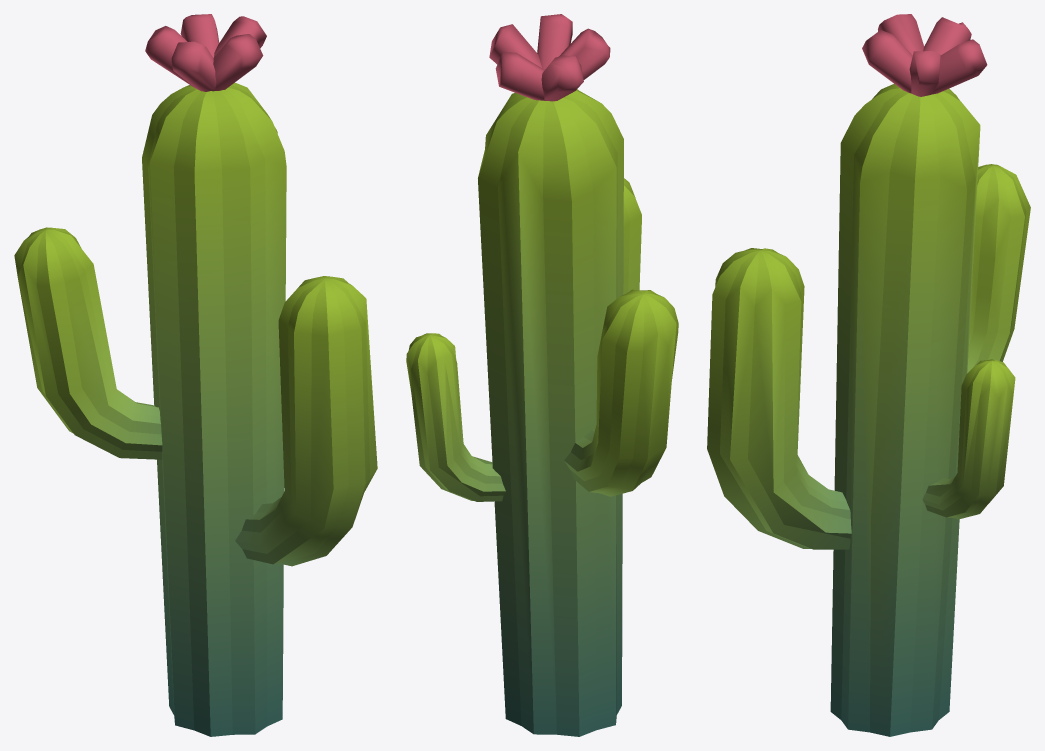
The picture shows the model from 3 angles, left to right: view 1: azimuth 30°, elevation 25°; view 2: azimuth 150°, elevation 25°; view 3: azimuth 270°, elevation 25°; orthographic projection. The views are drawn at different scales.
Parts seen in each view (by area): view 1: LOD 1_7895142726789826799_f747010238922ae448abd02d66270030; view 2: LOD 1_7895142726789826799_f747010238922ae448abd02d66270030; view 3: LOD 1_7895142726789826799_f747010238922ae448abd02d66270030.
Part boxes in pixels (x1=…): LOD 1_7895142726789826799_f747010238922ae448abd02d66270030: x1=14, y1=14, x2=377, y2=736; LOD 1_7895142726789826799_f747010238922ae448abd02d66270030: x1=406, y1=14, x2=678, y2=736; LOD 1_7895142726789826799_f747010238922ae448abd02d66270030: x1=707, y1=14, x2=1030, y2=736.
Bounding box in the file's own units: 1.06 × 2.66 × 1.14.
